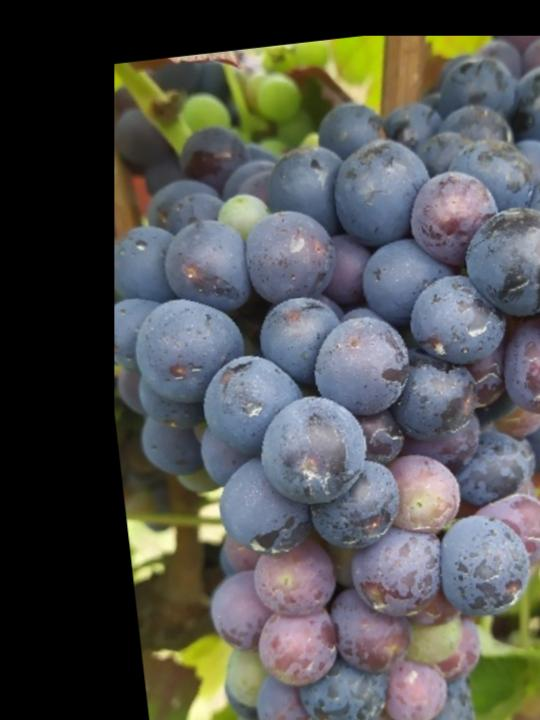grape: (60, 44, 540, 720)
